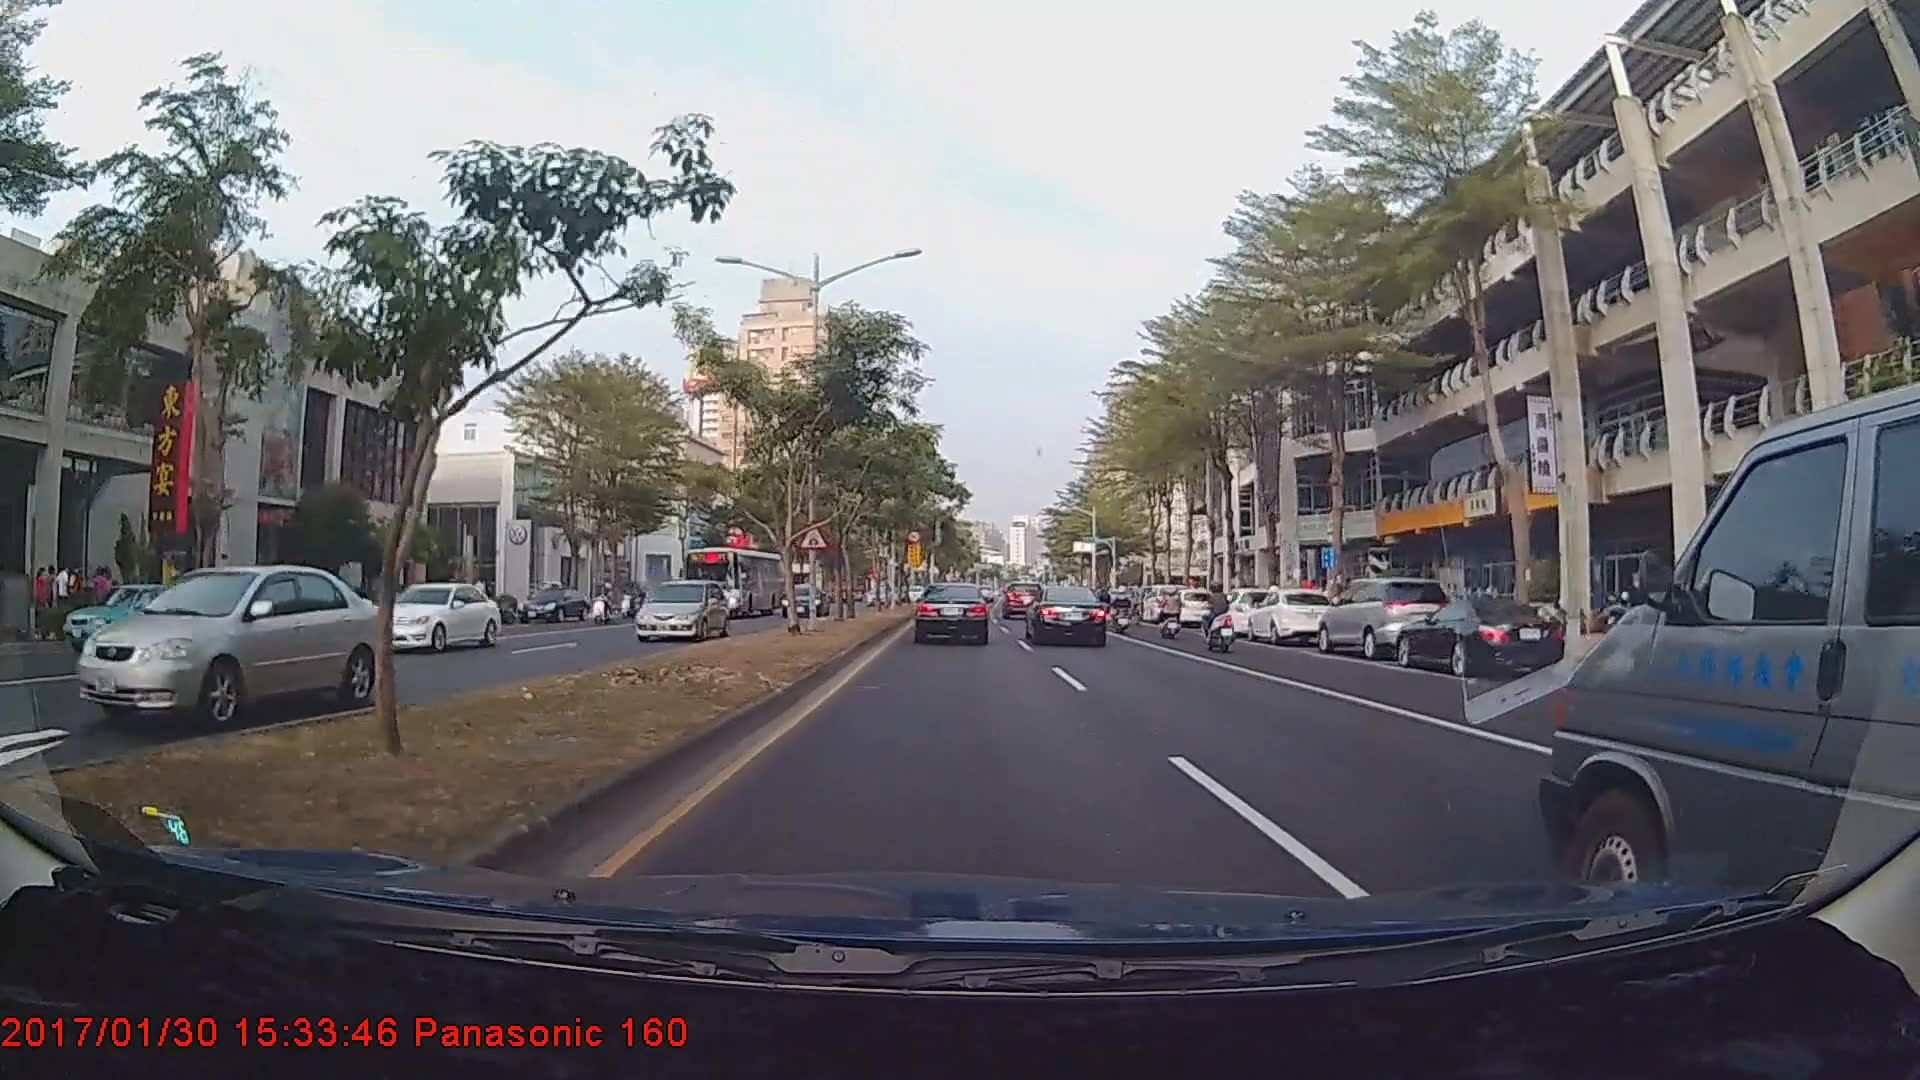rider: (1193, 582, 1244, 657), (1149, 587, 1196, 646), (587, 578, 621, 629), (1109, 586, 1134, 640)
vehicle: (1558, 403, 1914, 886), (72, 563, 380, 728), (1394, 597, 1569, 679), (1318, 571, 1458, 659), (358, 582, 500, 656), (62, 581, 199, 650), (685, 547, 781, 621), (634, 579, 729, 644), (1244, 586, 1340, 643), (1027, 583, 1108, 647), (914, 583, 991, 644), (1208, 587, 1281, 638), (1162, 587, 1216, 626), (778, 584, 825, 617), (1004, 577, 1046, 615)
